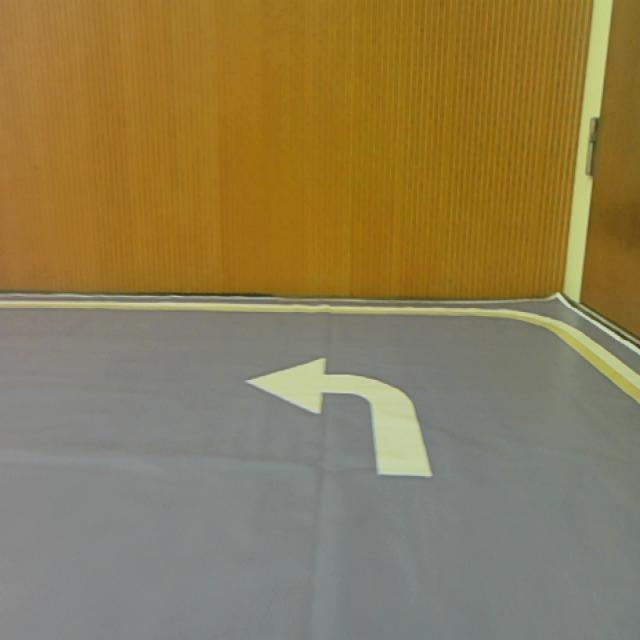right_lane: (550, 325, 640, 406)
